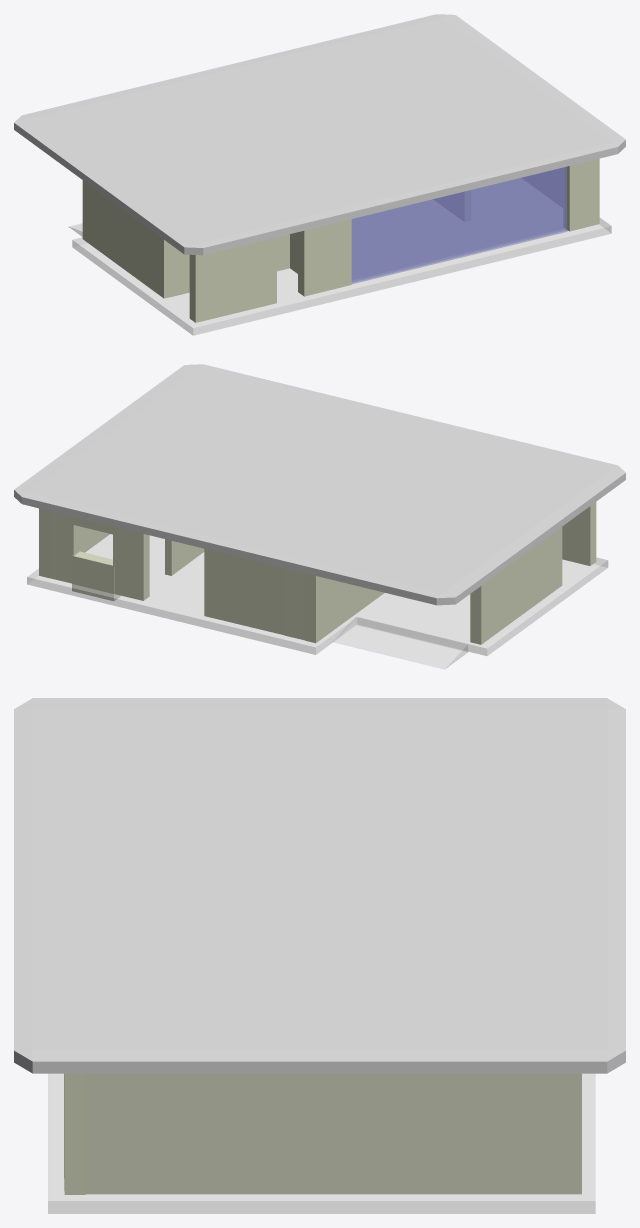
The model's file is building129.glb.
3 renders of one model, top to bottom at view 1: azimuth 30°, elevation 25°; view 2: azimuth 150°, elevation 25°; view 3: azimuth 270°, elevation 25°, orthographic. The views are drawn at different scales.
Visible parts, largest first — view 1: roof, Walls, backyard-glass, floor; view 2: roof, Walls, floor, Cube, Cube.001; view 3: roof, Walls, floor.
Part boxes in pixels (x1=…): roof: x1=14, y1=14, x2=625, y2=255; Walls: x1=82, y1=158, x2=599, y2=322; backyard-glass: x1=351, y1=166, x2=567, y2=283; floor: x1=72, y1=218, x2=611, y2=335; roof: x1=14, y1=364, x2=625, y2=605; Walls: x1=39, y1=502, x2=596, y2=644; floor: x1=27, y1=534, x2=608, y2=655; Cube: x1=333, y1=617, x2=468, y2=669; Cube.001: x1=72, y1=551, x2=120, y2=601; roof: x1=14, y1=698, x2=625, y2=1073; Walls: x1=64, y1=1073, x2=581, y2=1194; floor: x1=48, y1=1073, x2=595, y2=1213.
Size of the model in its own units: 15.42 by 3.22 by 10.97.
